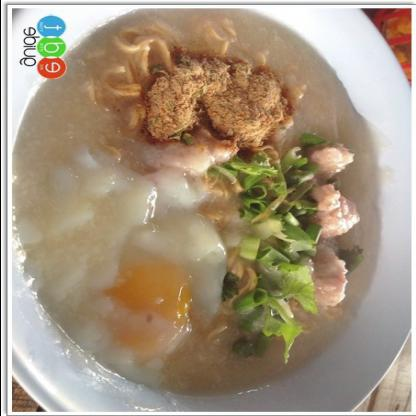Joke: (22, 15, 394, 411)
